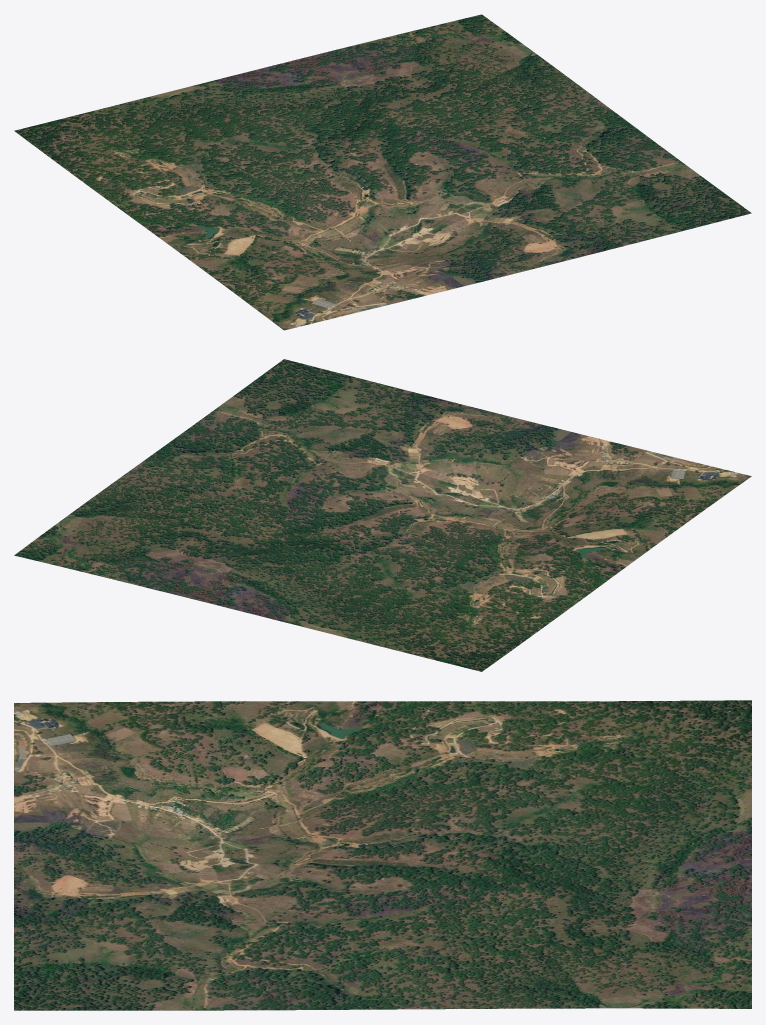
File: terrain_real_T_E04_N03.glb
3 views of the same model, one above another, from view 1: azimuth 30°, elevation 25°; view 2: azimuth 150°, elevation 25°; view 3: azimuth 270°, elevation 25° (orthographic). The views are drawn at different scales.
Visible parts, largest first — view 1: Terrain_Real_DEM_T_E04_N03; view 2: Terrain_Real_DEM_T_E04_N03; view 3: Terrain_Real_DEM_T_E04_N03.
Boxes of the visible parts, bbox=[...] form: Terrain_Real_DEM_T_E04_N03: bbox=[14, 14, 751, 330]; Terrain_Real_DEM_T_E04_N03: bbox=[14, 359, 751, 671]; Terrain_Real_DEM_T_E04_N03: bbox=[14, 700, 751, 1010].
Bounding box in the file's own units: 2000 × 95.88 × 2000.
Materials: 1 (1 with a texture image).
